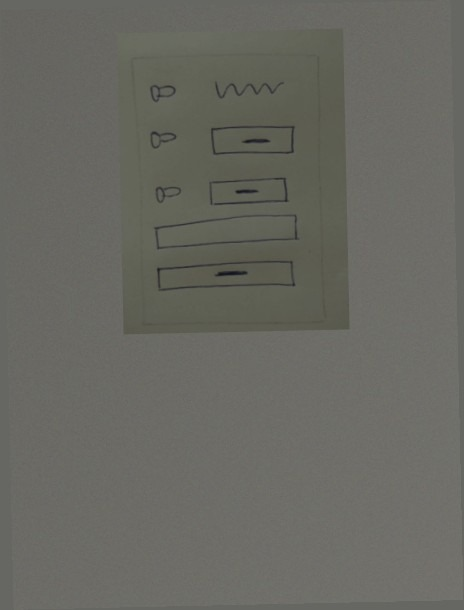button: (154, 257, 302, 294), (206, 123, 299, 161), (207, 174, 293, 210)
switch: (147, 78, 179, 108), (148, 125, 180, 154), (152, 179, 185, 207)
text: (208, 73, 288, 105)
text_input: (151, 213, 303, 253)
